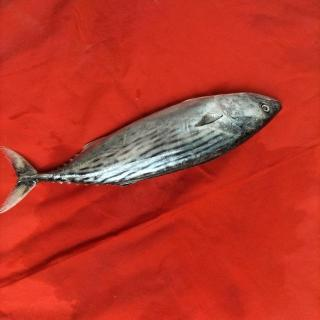Ikan: (9, 87, 284, 217)
